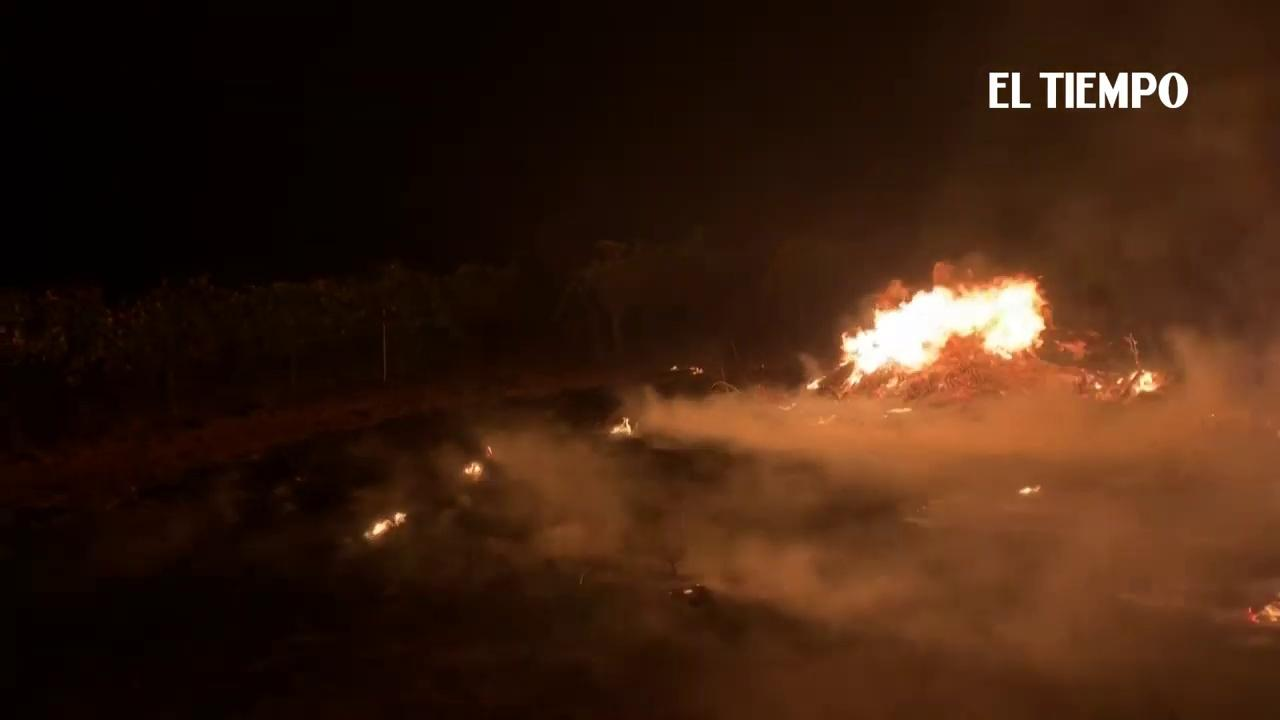Fire: (784, 266, 1063, 417), (365, 509, 412, 541), (1134, 368, 1164, 392), (614, 411, 638, 438), (1016, 479, 1047, 498), (465, 458, 487, 484), (1259, 594, 1277, 625)
